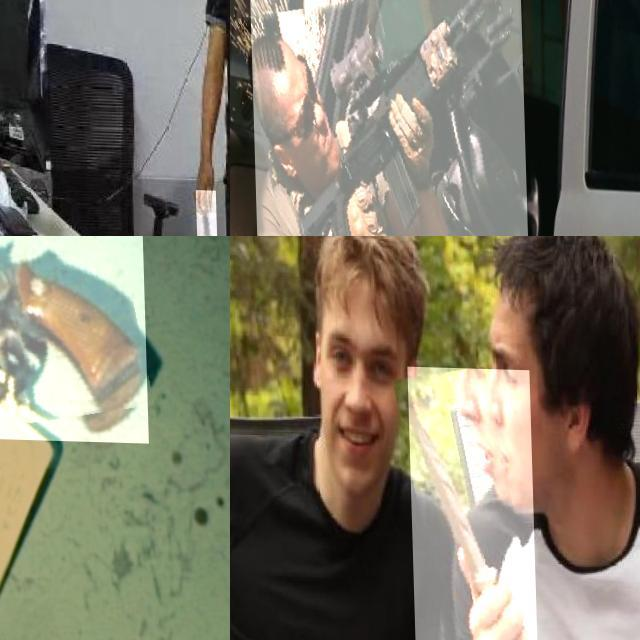-: (406, 364, 536, 640), (192, 188, 214, 236)
gun-knife-thesis - v11 Yolov5 augmented: (249, 0, 528, 236), (0, 236, 156, 440)
